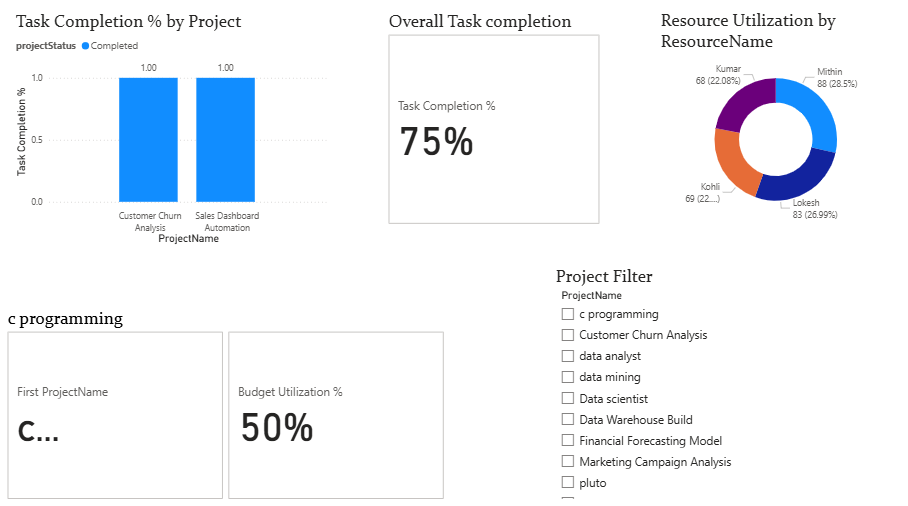

Layout of this report page (visuals, bound fields, positions):
{"tool":"powerbi","page":{"name":"Resource and budget dashboard","canvas":[1280,720],"ordinal":1},"visuals":[{"type":"clusteredColumnChart","title":"Task Completion % by Project","fields":{"Category":["projects.ProjectName"],"Y":["tasks.Task Completion %"],"Series":["tasks.projectStatus"]},"box":[23,31.7,439.2,328.3],"z":0},{"type":"cardVisual","title":"Overall Task completion","fields":{"Data":["tasks.Task Completion %"]},"box":[537.1,31.7,301,299.5],"z":1000},{"type":"slicer","title":"Project Filter","fields":{"Values":["projects.ProjectName"]},"box":[767.1,382.3,513.2,327.3],"z":2000},{"type":"cardVisual","fields":{"Data":["projects.ProjectName","budget.Budget Utilization %"]},"box":[11.8,439.9,610,269.7],"z":3000},{"type":"donutChart","title":"Resource Utilization by ResourceName","fields":{"Category":["resources.ResourceName"],"Y":["resources.Resource Utilization (%)"]},"box":[911.5,30.2,326.9,301],"z":4000}]}

Visuals, with their boxes in screenshot pixels (x1, y1, x2, y2), scaled from the page's 1280x720 canvas onto the 908x506 screenshot:
"Task Completion % by Project" clusteredColumnChart: bbox=[16, 22, 328, 253]
"Overall Task completion" cardVisual: bbox=[381, 22, 595, 233]
"Project Filter" slicer: bbox=[544, 269, 907, 499]
cardVisual - projects.ProjectName x budget.Budget Utilization %: bbox=[8, 309, 441, 499]
"Resource Utilization by ResourceName" donutChart: bbox=[647, 21, 878, 233]
